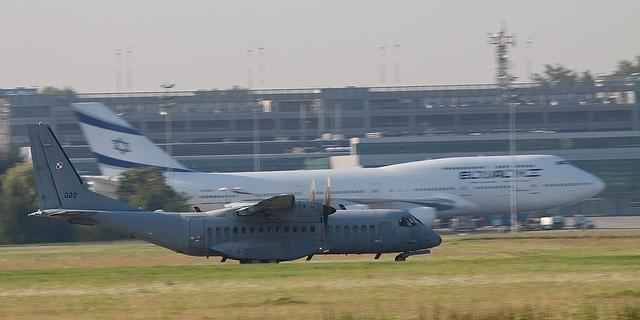truck: (572, 215, 596, 228)
